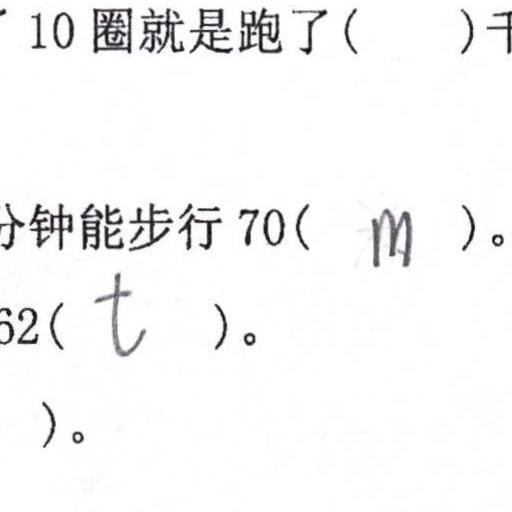ans: (88, 269, 148, 360), (364, 202, 416, 269)
